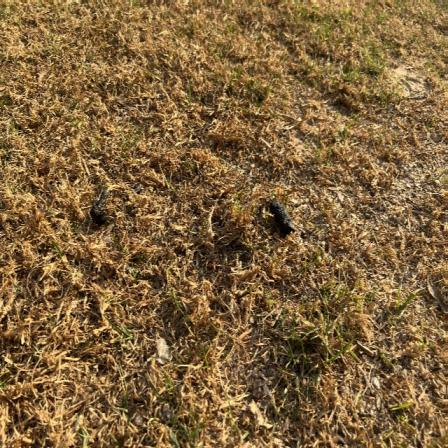dog-poop: (82, 180, 121, 232), (265, 189, 302, 239)
